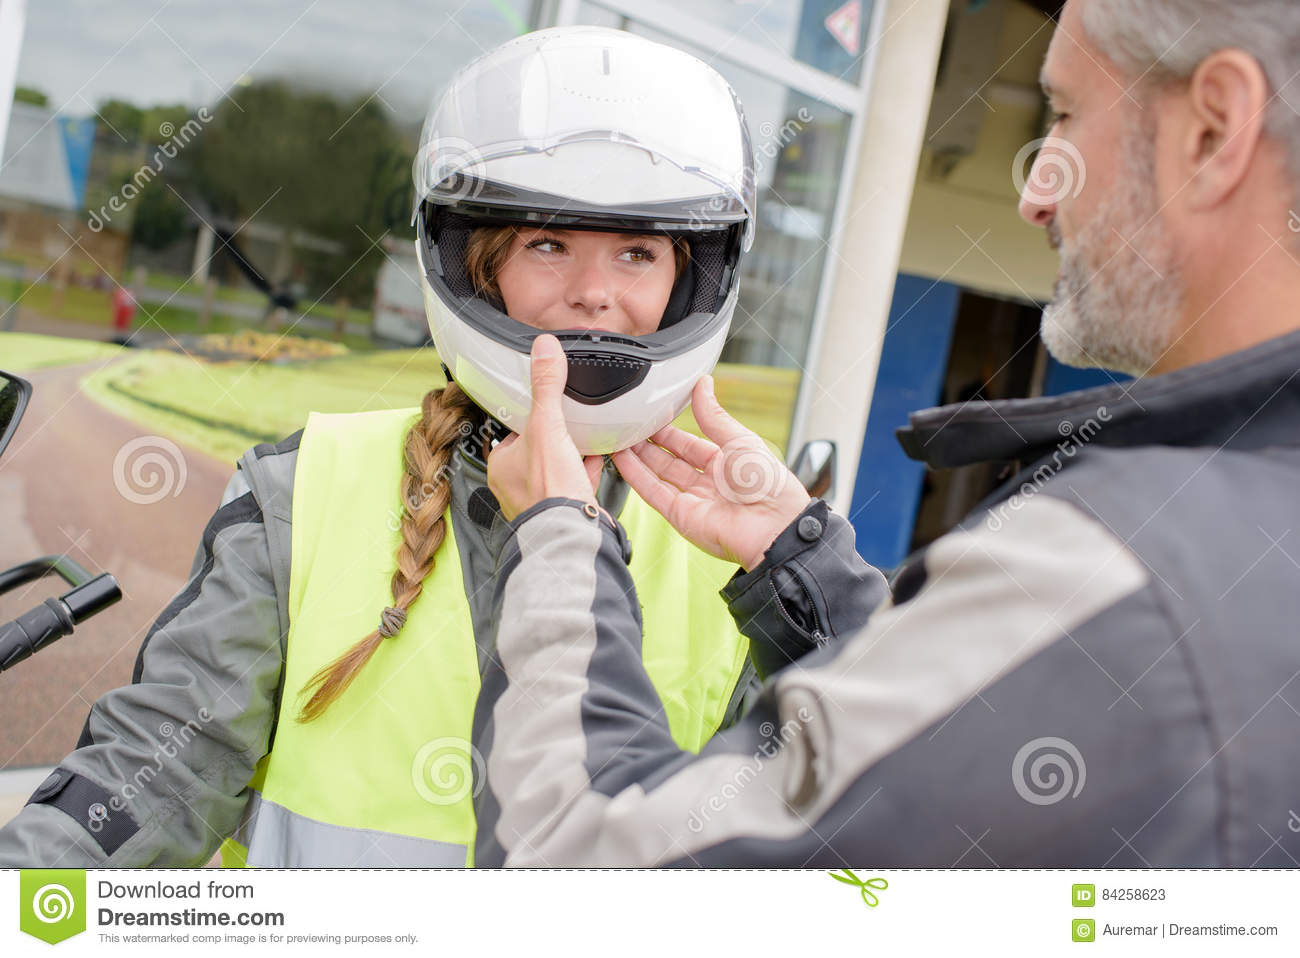helmet: (402, 29, 752, 448)
